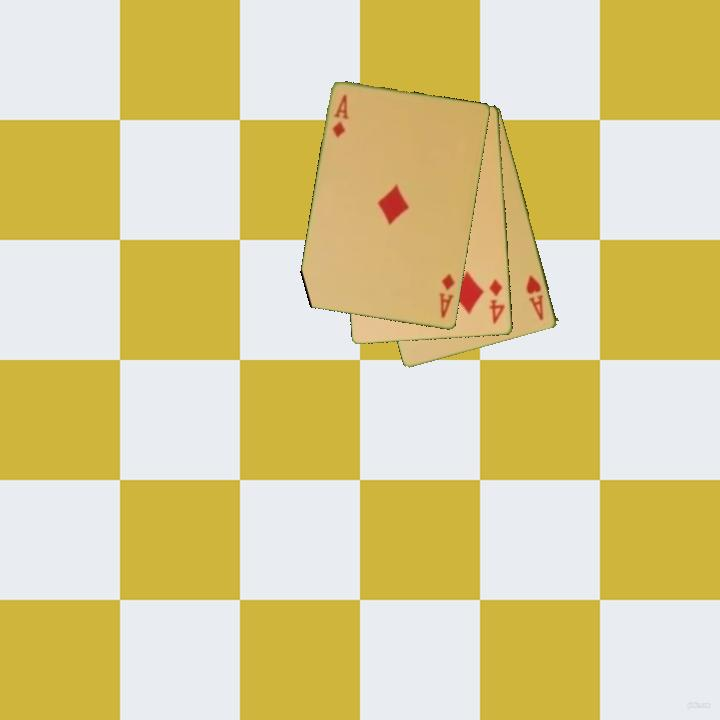4d: (486, 276, 508, 327)
Ad: (435, 270, 458, 321), (329, 91, 352, 141)
Ah: (523, 272, 547, 323)
